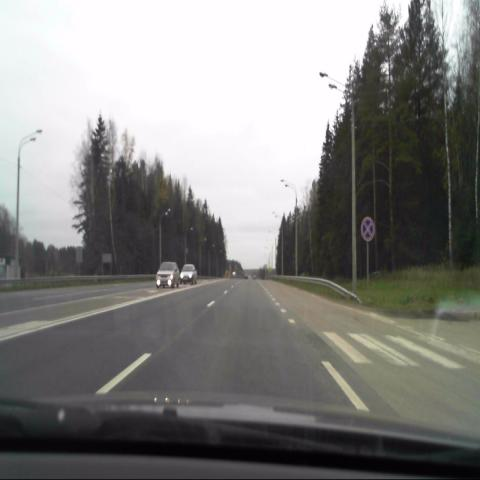3_27: (360, 217, 374, 242)
